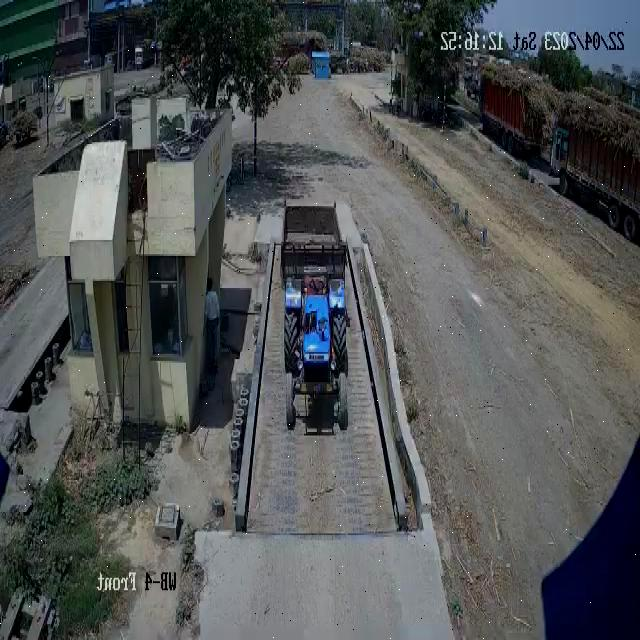Tratores - v5 YOLO V8L 2024-11-13: (283, 272, 350, 434)
